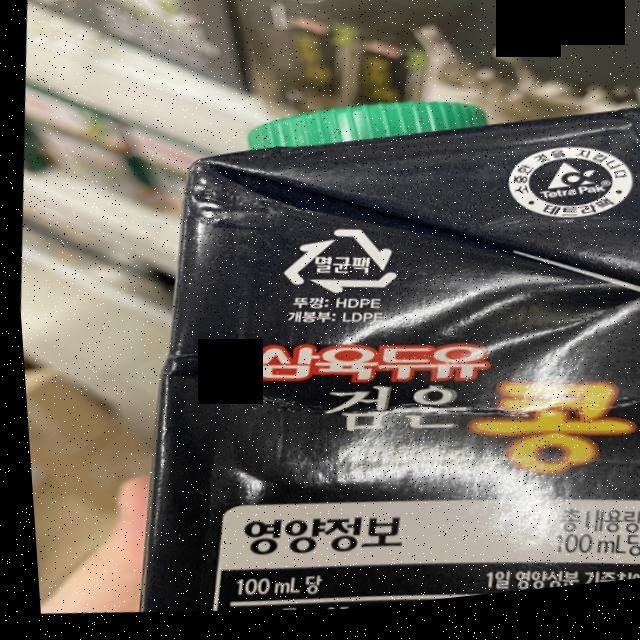SterilizedPack: (267, 216, 402, 313)
